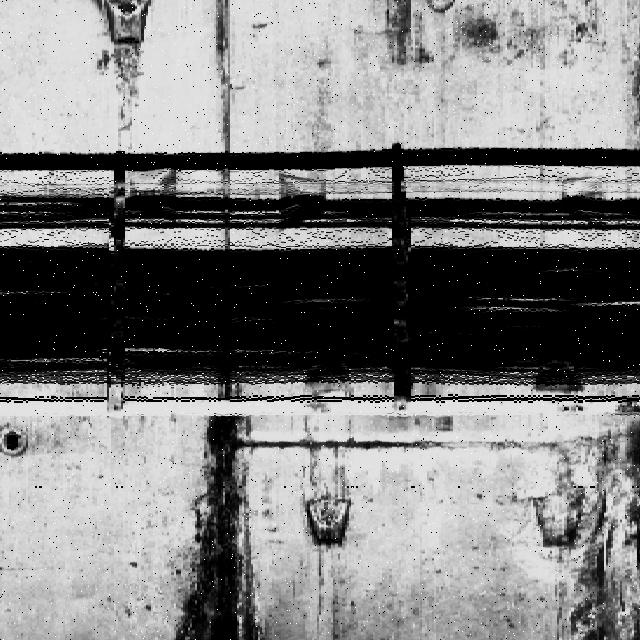leakage: (170, 416, 277, 640)
